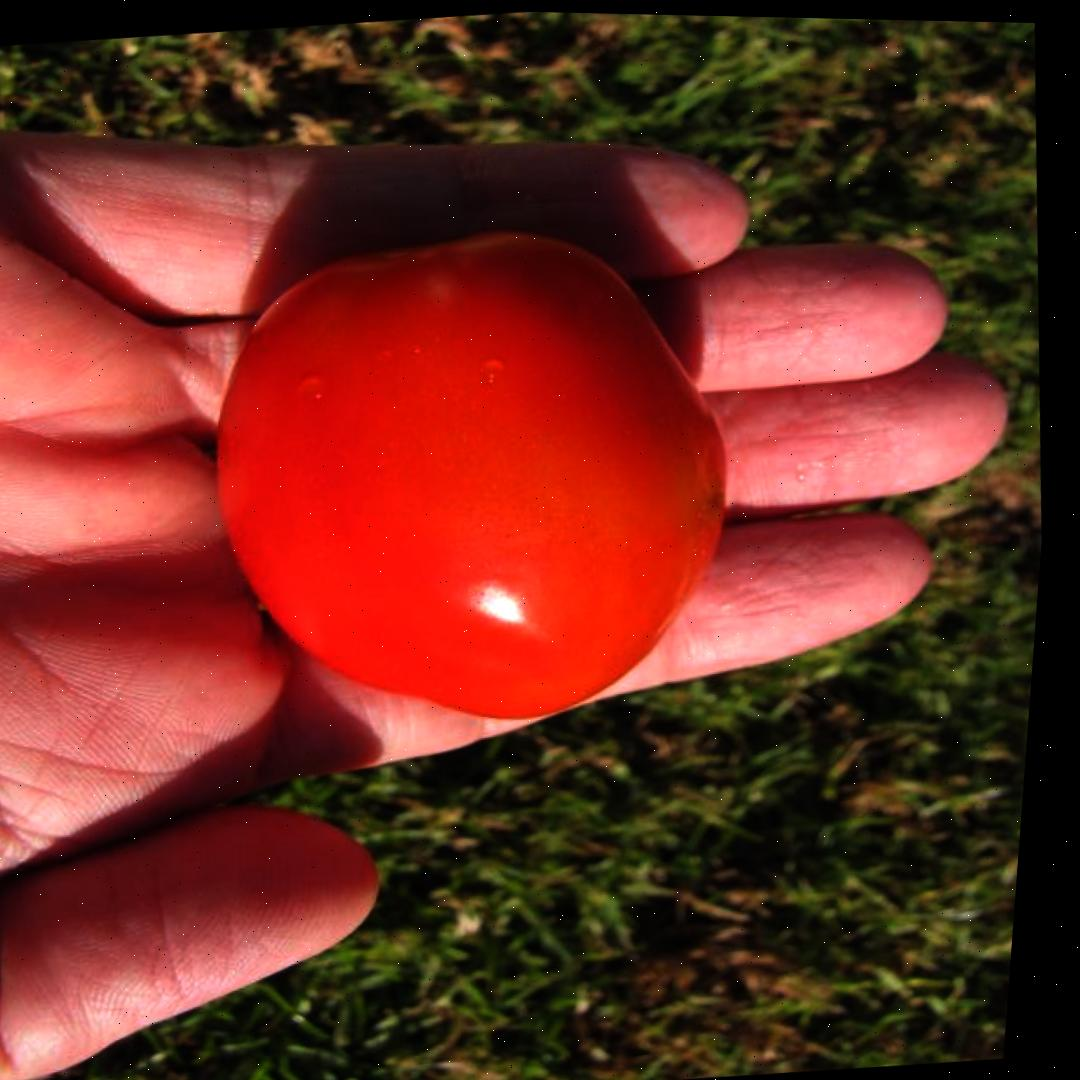matang: (173, 204, 769, 751)
